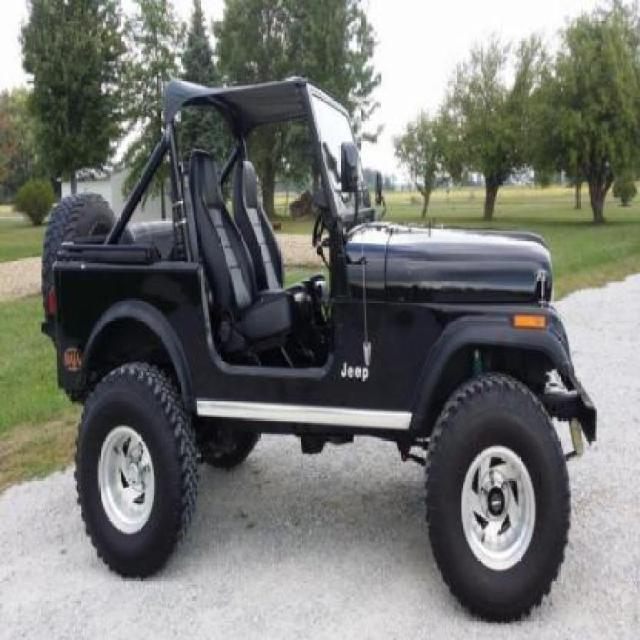Jeep: (36, 72, 596, 623)
